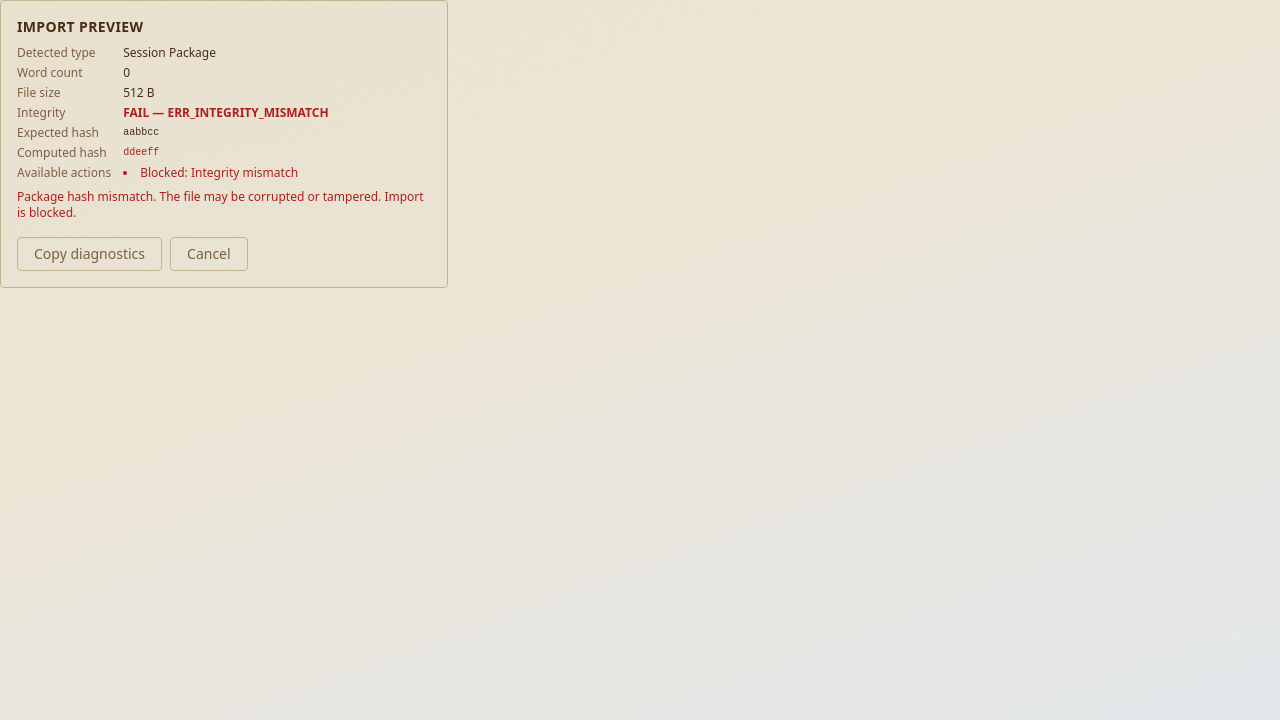
Test case: 0251 — Clipboard failure fallback › shows manual copy fallback textarea on clipboard failure
Click the button "Copy diagnostics".
click(90, 254)  # box [17,237,162,271]
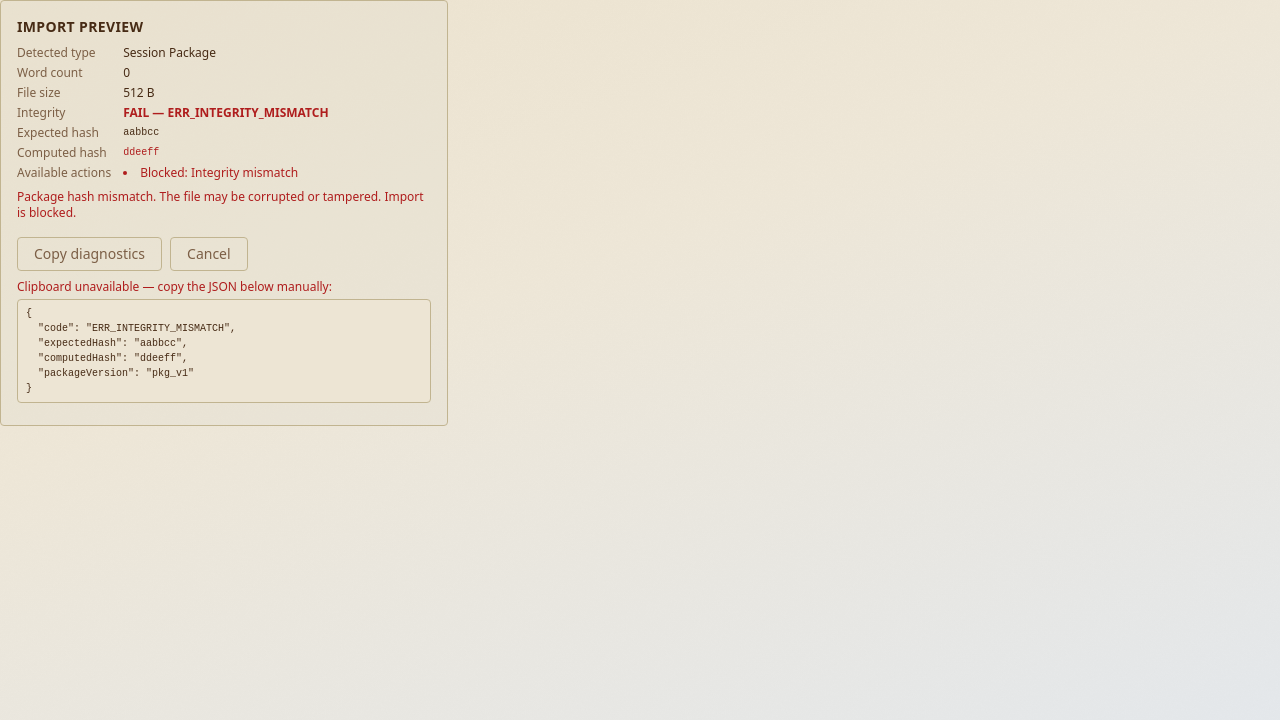
Expected: the text "Clipboard unavailable — copy the JSON below manually:" is shown, [17,278,332,295]
Expected: the text box named "Diagnostics JSON" is shown, [17,299,431,403]
